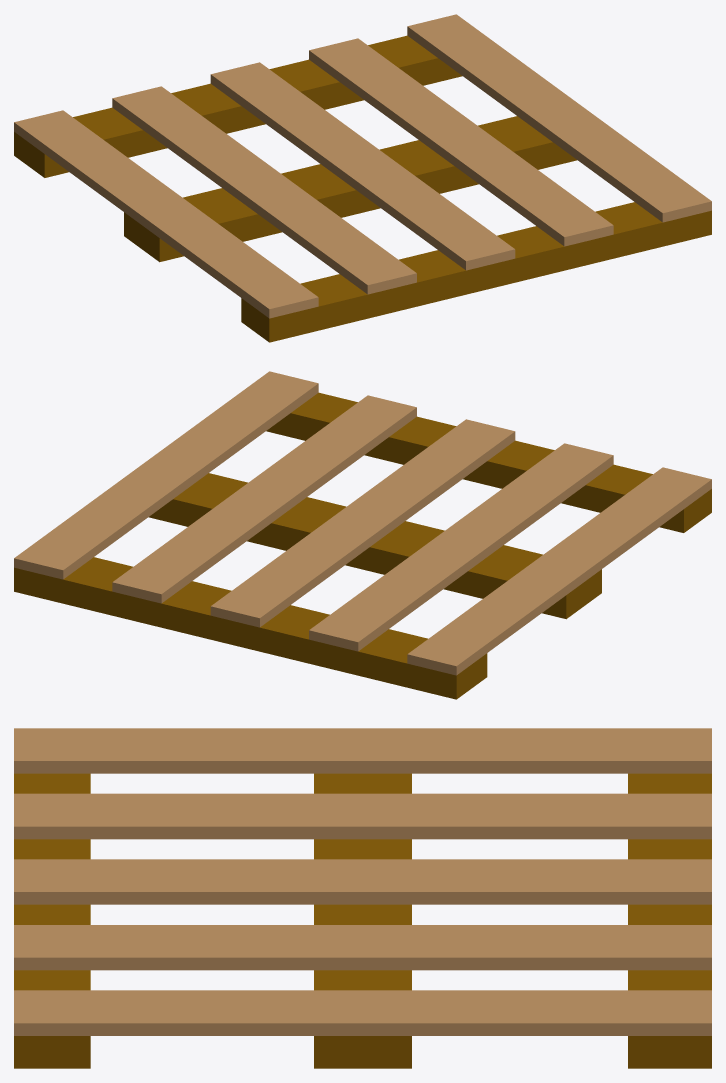
Rendered from Pallet.fbx.
3 views of the same model, one above another, from view 1: azimuth 30°, elevation 25°; view 2: azimuth 150°, elevation 25°; view 3: azimuth 270°, elevation 25° (orthographic). The views are drawn at different scales.
Visible parts, largest first — view 1: Pallet; view 2: Pallet; view 3: Pallet.
Boxes of the visible parts, x1,y1,x2,y2 form: Pallet: (14,14,711,342); Pallet: (14,371,711,699); Pallet: (14,728,711,1068).
Bounding box in the file's own units: 200 × 14.43 × 200.
